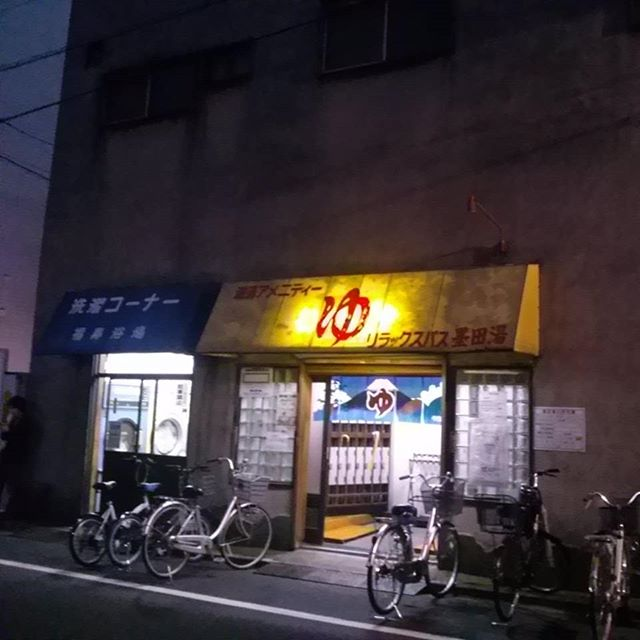bicicle: (148, 452, 280, 579), (475, 469, 575, 611), (364, 468, 467, 603), (577, 491, 640, 635), (72, 478, 168, 564)
building: (65, 7, 634, 618)
sign: (206, 261, 548, 359), (20, 271, 212, 354)
